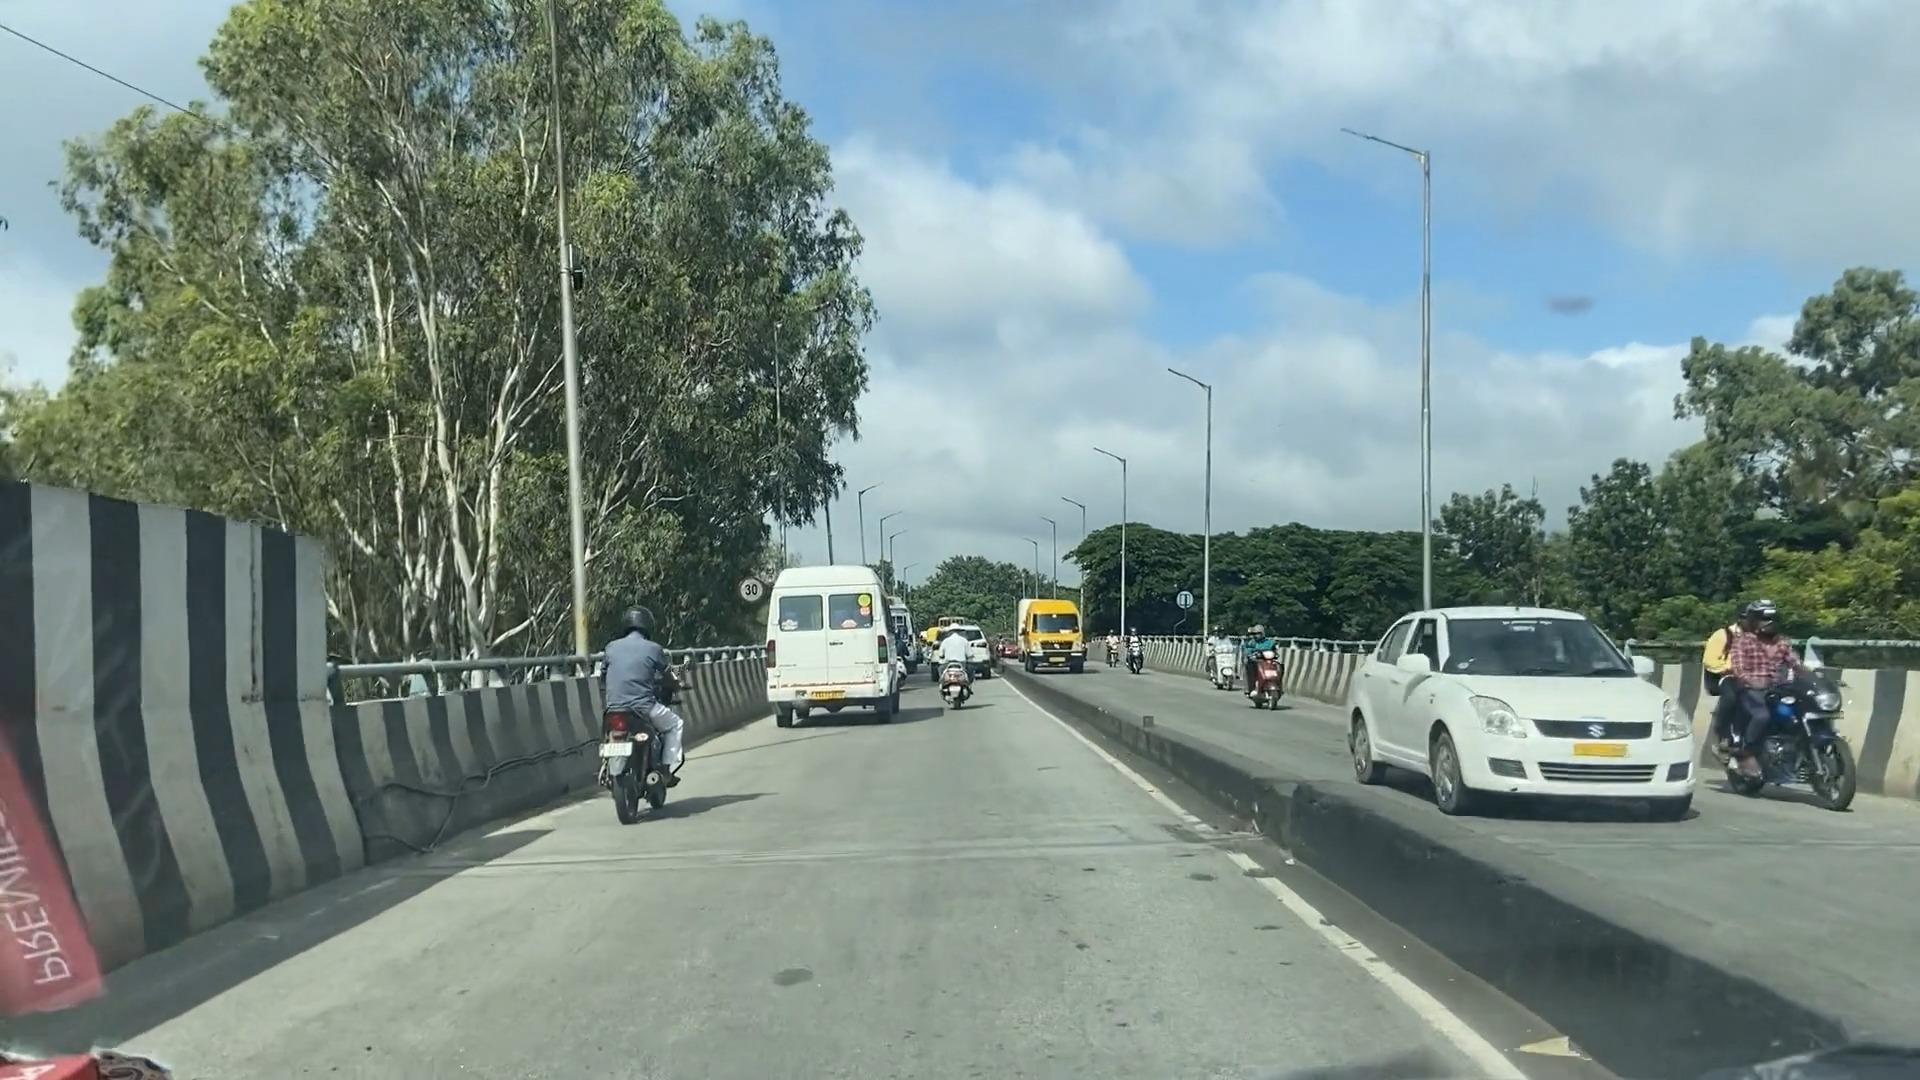HMV: (761, 566, 897, 732)
LMV: (593, 605, 674, 833), (931, 624, 967, 715)
